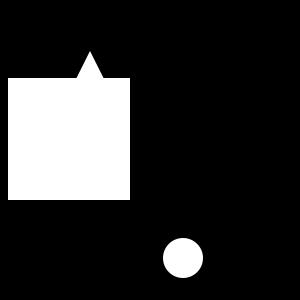circle: (8, 78, 130, 200)
rectangle: (163, 238, 203, 278)
triangle: (63, 51, 117, 105)
